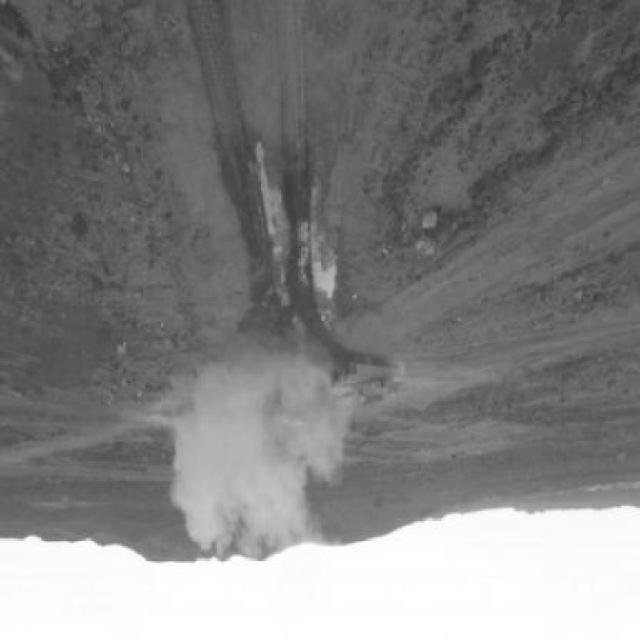Vehicle: (331, 362, 406, 409)
